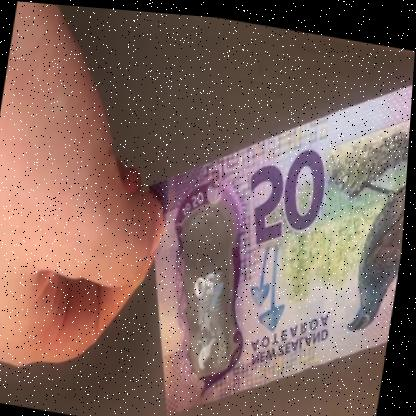50B: (173, 208, 251, 374)
